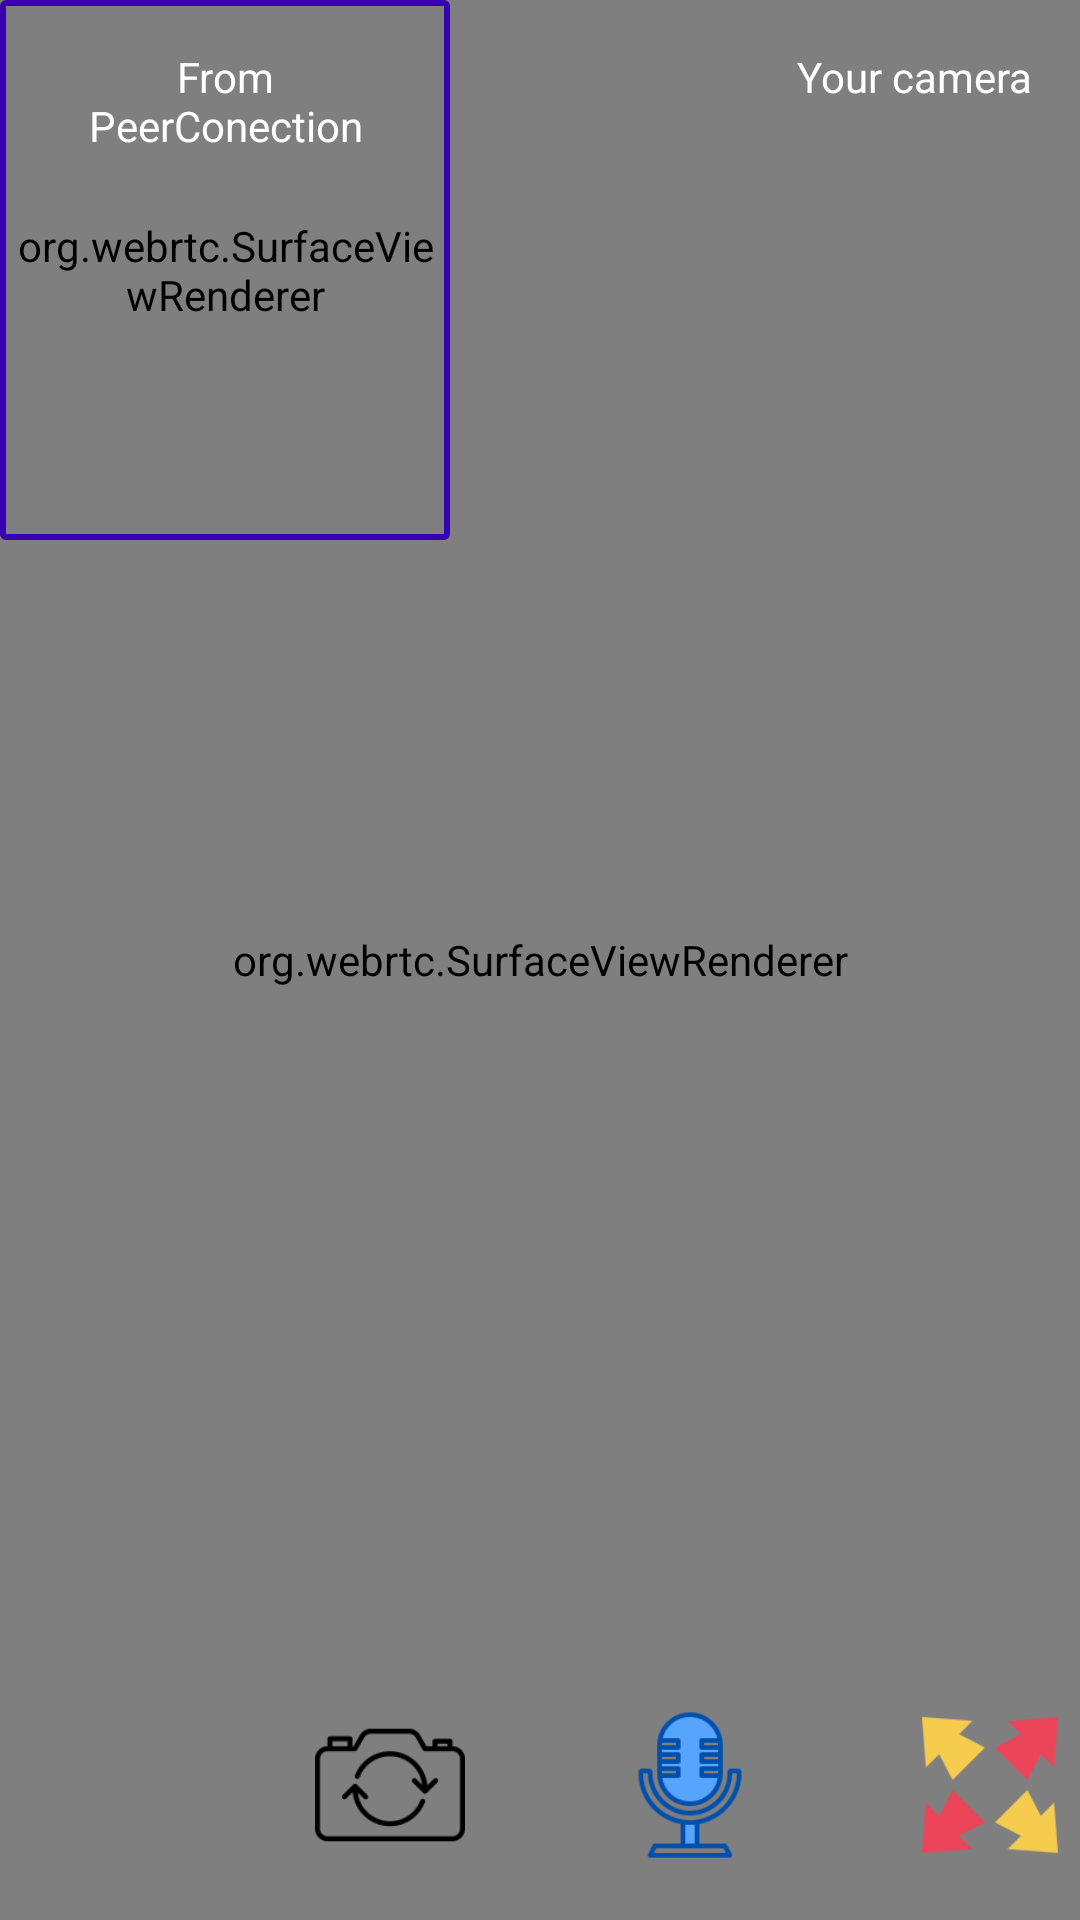

Screen size 1080px×1920px. Icon name, then its center in pixels as [x,y]:
expand: [990,1785]
microphone: [690,1785]
switch camera: [390,1785]
